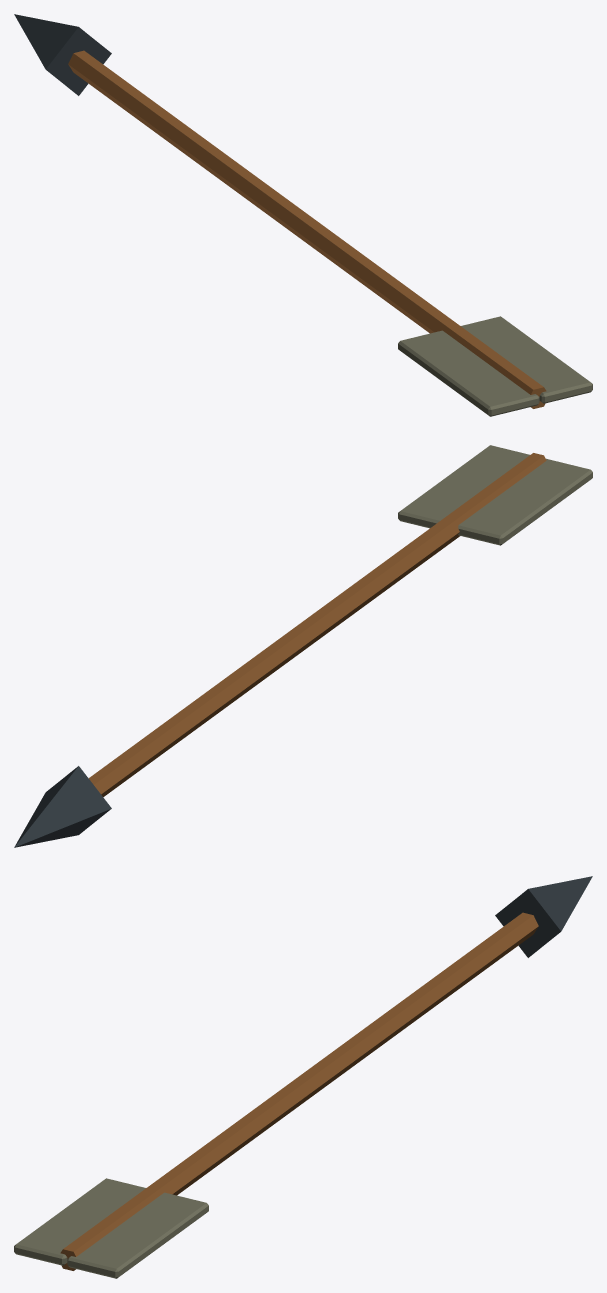
The model's file is Arrow.glb.
The picture shows the model from 3 angles, top to bottom: view 1: azimuth 30°, elevation 25°; view 2: azimuth 150°, elevation 25°; view 3: azimuth 330°, elevation 25°; orthographic projection.
Parts seen in each view (by area): view 1: Sculpture; view 2: Sculpture; view 3: Sculpture.
Part boxes in pixels (x1,y1,x2,y2): Sculpture: (14,14,592,416); Sculpture: (14,445,592,847); Sculpture: (14,876,592,1278).
Size of the model in its own units: 0.098 by 0.062 by 0.855.
